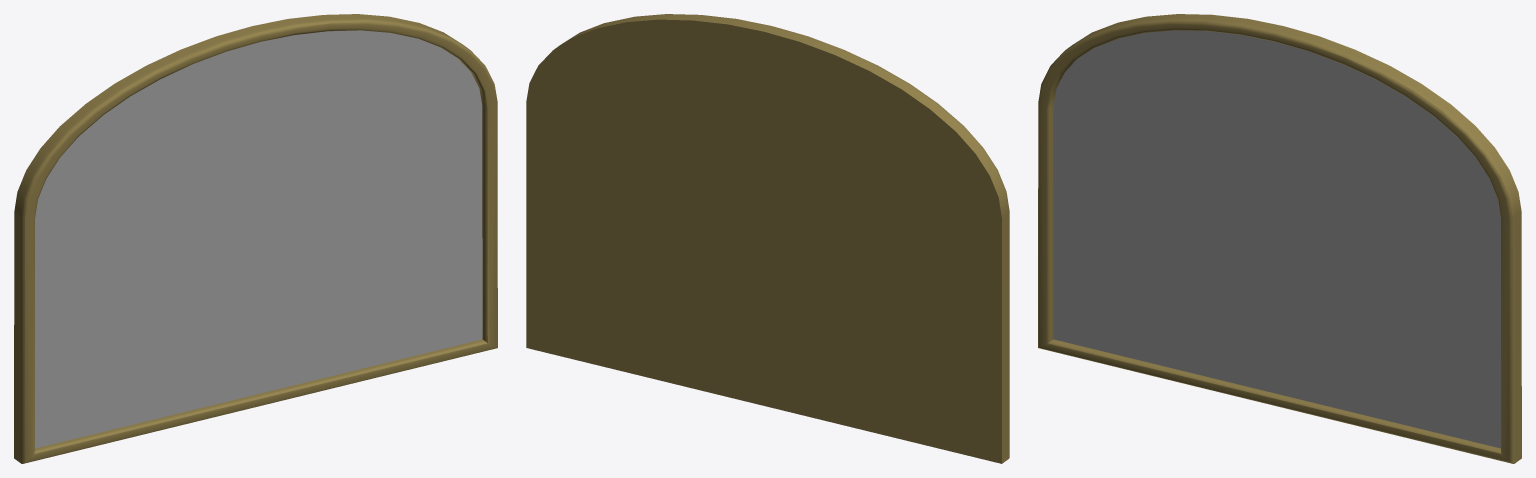
Rendered from toiletmirror.glb.
The picture shows the model from 3 angles, left to right: view 1: azimuth 30°, elevation 25°; view 2: azimuth 150°, elevation 25°; view 3: azimuth 330°, elevation 25°; orthographic projection.
Parts seen in each view (by area): view 1: polySurface3; view 2: polySurface3; view 3: polySurface3.
Part boxes in pixels (x1,y1,x2,y2): polySurface3: (14, 14, 497, 463); polySurface3: (526, 14, 1009, 463); polySurface3: (1038, 14, 1521, 463).
Bounding box in the file's own units: 0.0335 × 0.0252 × 0.00114.
